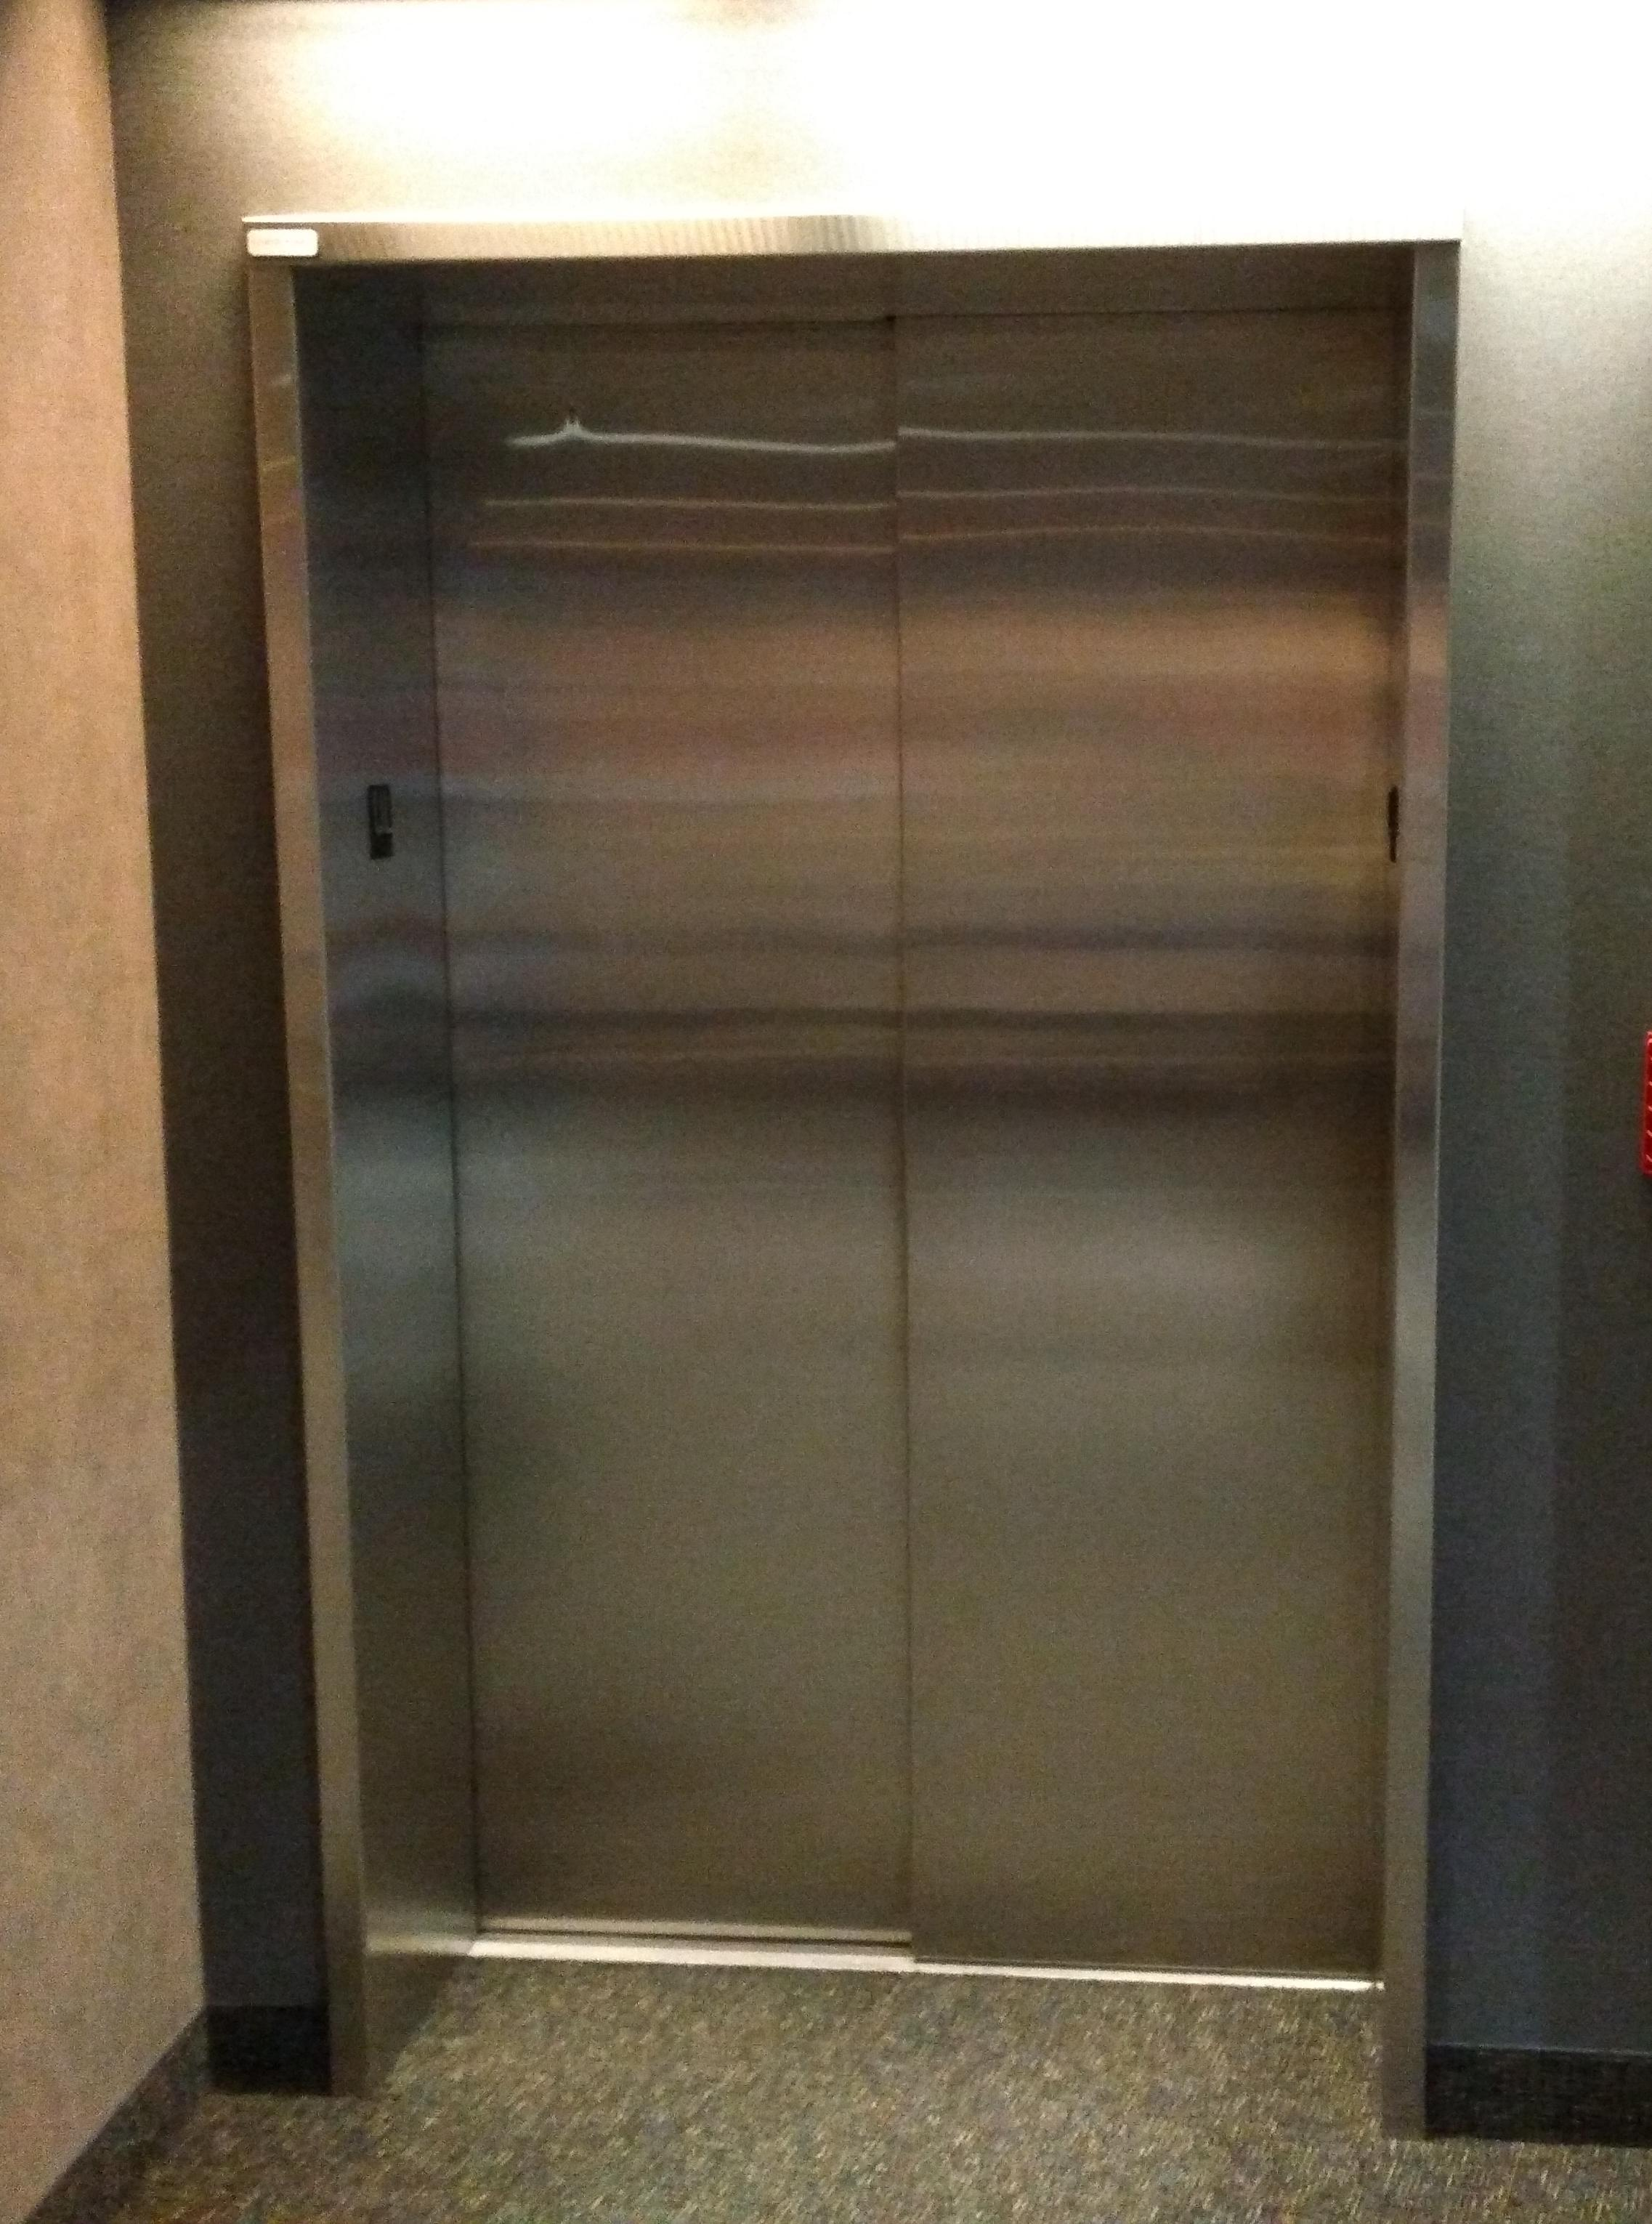door: (241, 206, 1465, 2142)
